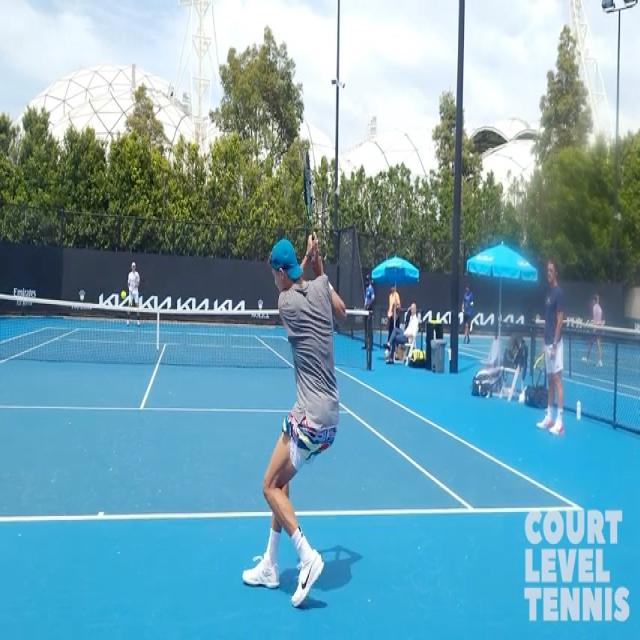forehand-finish: (237, 151, 360, 611)
